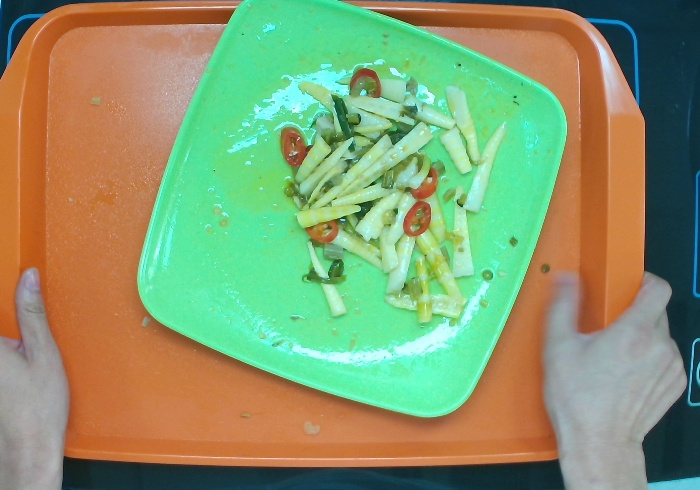ZNLD-Lv_Fang_Pan: (133, 1, 580, 426)
